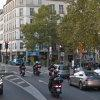Motorcycle: (39, 66, 66, 100)
